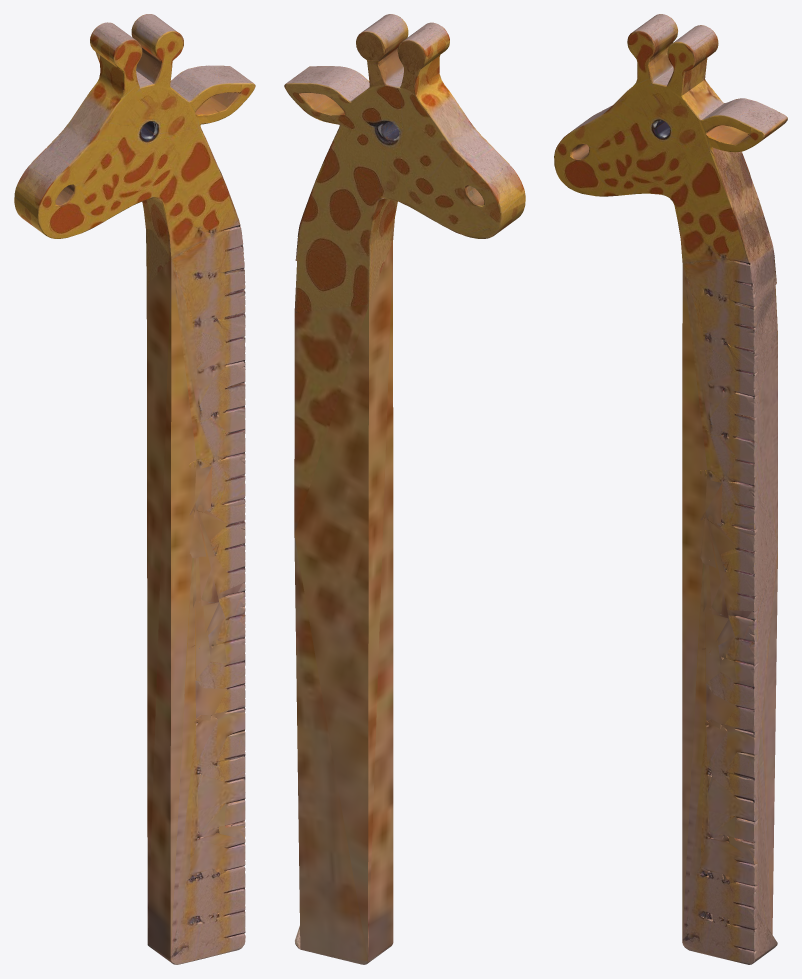
The model's file is giraffa_metro_B.glb.
3 renders of one model, left to right at view 1: azimuth 30°, elevation 25°; view 2: azimuth 150°, elevation 25°; view 3: azimuth 330°, elevation 25°, orthographic. The views are drawn at different scales.
Visible parts, largest first — view 1: Mesh_0; view 2: Mesh_0; view 3: Mesh_0.
Part boxes in pixels (x1,y1,x2,y2): Mesh_0: (14, 14, 255, 964); Mesh_0: (284, 14, 525, 964); Mesh_0: (554, 14, 787, 964).
Bounding box in the file's own units: 0.3895 × 1.6 × 0.0761.
1 material, 1 textured.
